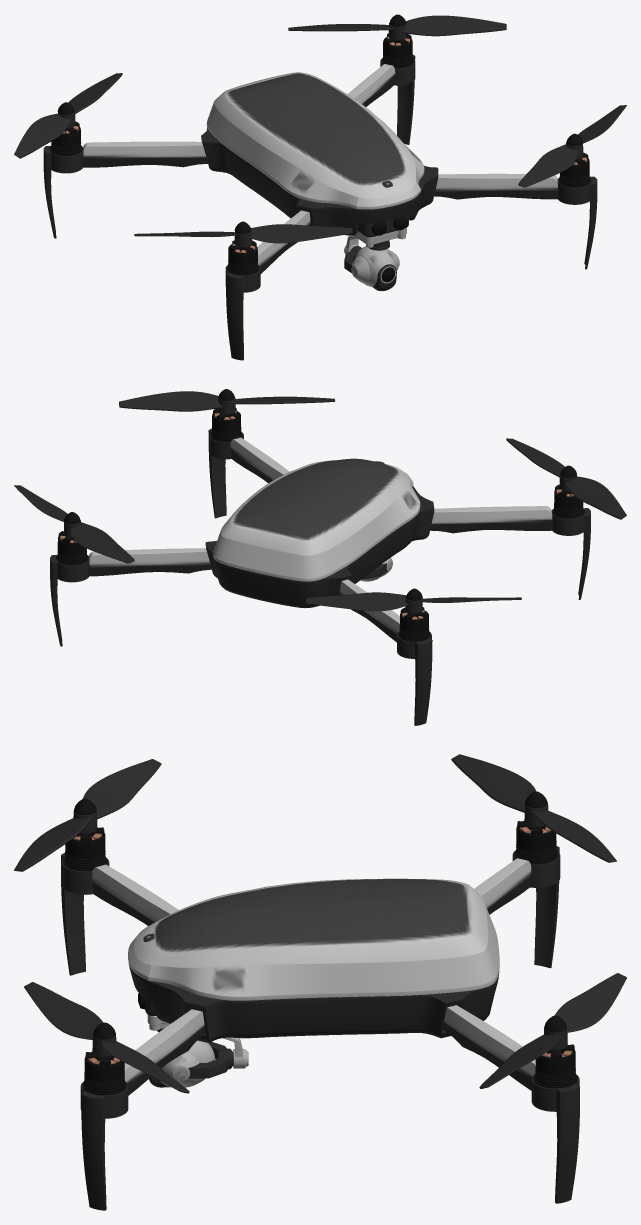
Rendered from drone_sample_centered_aboutface.glb.
3 renders of one model, top to bottom at view 1: azimuth 30°, elevation 25°; view 2: azimuth 150°, elevation 25°; view 3: azimuth 270°, elevation 25°, orthographic. The views are drawn at different scales.
Visible parts, largest first — view 1: node_id165, node_id161, node_id187, node_id191, node_id185, node_id205, node_id189, node_id193, node_id199, node_id177, node_id211, node_id197 (+4 smaller); view 2: node_id165, node_id161, node_id185, node_id189, node_id187, node_id191, node_id211, node_id199, node_id193, node_id205, node_id203, node_id215 (+2 smaller); view 3: node_id165, node_id161, node_id189, node_id191, node_id185, node_id187, node_id199, node_id193, node_id211, node_id205, node_id177, node_id215 (+3 smaller).
Part boxes in pixels (bbox=[...]): node_id165: bbox=[206, 72, 424, 209]; node_id161: bbox=[201, 127, 438, 237]; node_id187: bbox=[43, 141, 207, 238]; node_id191: bbox=[434, 173, 597, 269]; node_id185: bbox=[225, 210, 310, 360]; node_id205: bbox=[288, 15, 506, 40]; node_id189: bbox=[347, 55, 415, 144]; node_id193: bbox=[134, 224, 352, 247]; node_id199: bbox=[14, 73, 122, 158]; node_id177: bbox=[344, 235, 399, 291]; node_id211: bbox=[518, 105, 626, 187]; node_id197: bbox=[228, 240, 257, 273]; node_id165: bbox=[213, 458, 420, 581]; node_id161: bbox=[205, 486, 434, 608]; node_id185: bbox=[430, 506, 590, 599]; node_id189: bbox=[50, 548, 211, 646]; node_id187: bbox=[339, 579, 432, 725]; node_id191: bbox=[208, 428, 289, 518]; node_id211: bbox=[119, 391, 335, 414]; node_id199: bbox=[305, 592, 521, 613]; node_id193: bbox=[506, 438, 626, 519]; node_id205: bbox=[14, 485, 134, 563]; node_id203: bbox=[399, 607, 429, 640]; node_id215: bbox=[211, 408, 241, 440]; node_id165: bbox=[128, 878, 499, 1000]; node_id161: bbox=[128, 963, 499, 1042]; node_id189: bbox=[443, 1005, 579, 1203]; node_id191: bbox=[80, 1009, 205, 1210]; node_id185: bbox=[61, 853, 178, 975]; node_id187: bbox=[474, 846, 560, 968]; node_id199: bbox=[451, 754, 616, 862]; node_id193: bbox=[14, 759, 161, 871]; node_id211: bbox=[24, 982, 189, 1093]; node_id205: bbox=[479, 973, 626, 1088]; node_id177: bbox=[149, 1037, 248, 1087]; node_id215: bbox=[84, 1052, 124, 1093].
Size of the model in its own units: 0.5189 by 0.1343 by 0.3987.
Materials: 77 (77 with a texture image).
